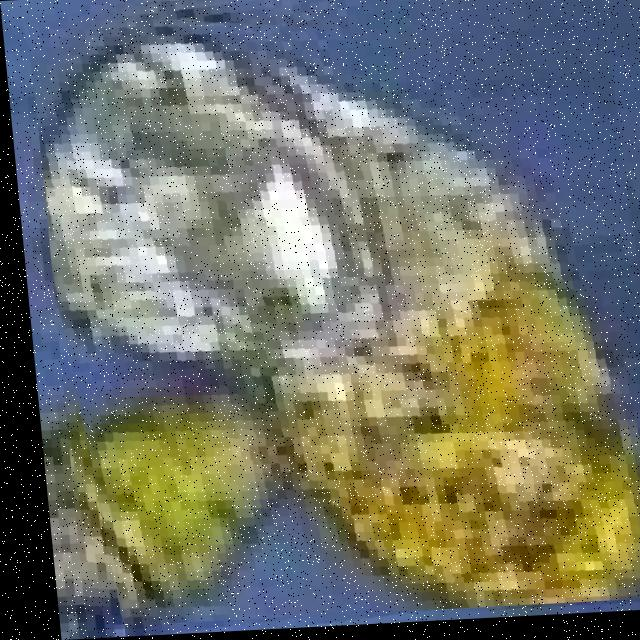can: (32, 16, 640, 616)
